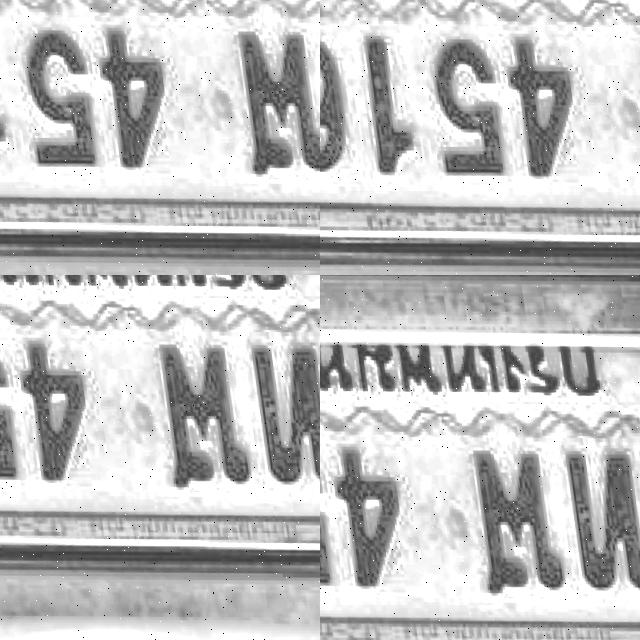license-plate: (320, 275, 640, 640), (420, 106, 640, 275), (109, 133, 320, 275)
